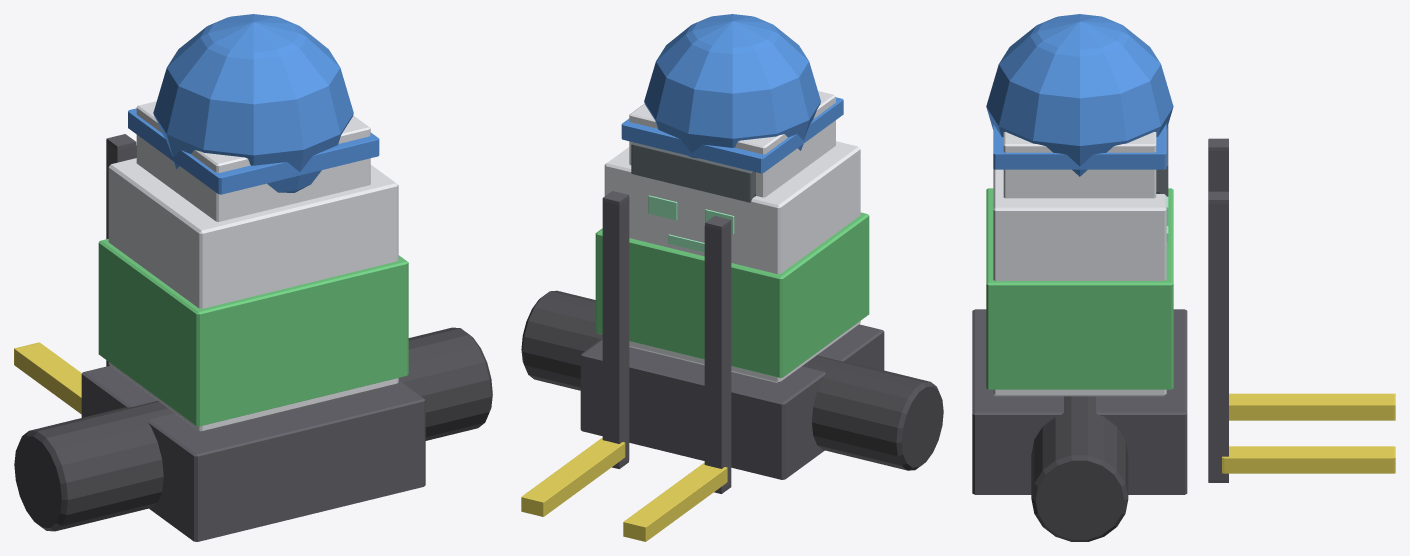
File: ForkliftBot.glb
3 views of the same model, side by side, from view 1: azimuth 30°, elevation 25°; view 2: azimuth 150°, elevation 25°; view 3: azimuth 270°, elevation 25° (orthographic). The views are drawn at different scales.
Visible parts, largest first — view 1: Vest, Base, Torso, Hardhat, TrackL, Head, TrackR, HatBrim, ForkL, MastL; view 2: Vest, Base, Hardhat, Torso, TrackL, MastR, MastL, TrackR, Goggles, HatBrim, Head, ForkL (+2 smaller); view 3: Vest, Hardhat, Base, Torso, TrackR, MastR, Head, ForkR, ForkL, HatBrim, MastL.
Part boxes in pixels (x1,y1,x2,y2): Vest: (98, 239, 408, 426); Base: (81, 365, 425, 541); Torso: (108, 158, 398, 432); Hardhat: (153, 14, 353, 192); TrackL: (14, 401, 174, 531); Head: (136, 101, 370, 221); TrackR: (398, 327, 492, 440); HatBrim: (128, 108, 379, 194); ForkL: (14, 342, 81, 414); MastL: (106, 134, 136, 366); Vest: (595, 212, 869, 377); Base: (580, 324, 884, 479); Hardhat: (644, 14, 820, 158); Torso: (604, 141, 860, 383); TrackL: (802, 355, 943, 470); MastR: (602, 191, 629, 469); MastL: (704, 216, 731, 493); TrackR: (521, 290, 602, 390); Goggles: (631, 142, 755, 202); HatBrim: (621, 97, 843, 173); Head: (629, 91, 835, 197); ForkL: (623, 462, 727, 541); Vest: (986, 188, 1173, 389); Hardhat: (986, 14, 1173, 176); Base: (972, 309, 1187, 494); Torso: (993, 169, 1166, 396); TrackR: (1031, 396, 1128, 541); MastR: (1208, 191, 1228, 482); Head: (1003, 131, 1156, 198); ForkR: (1222, 446, 1395, 473); ForkL: (1229, 393, 1395, 420); HatBrim: (993, 82, 1166, 169); MastL: (1208, 138, 1228, 191).
Size of the model in its own units: 1.34 by 1.37 by 1.22.
